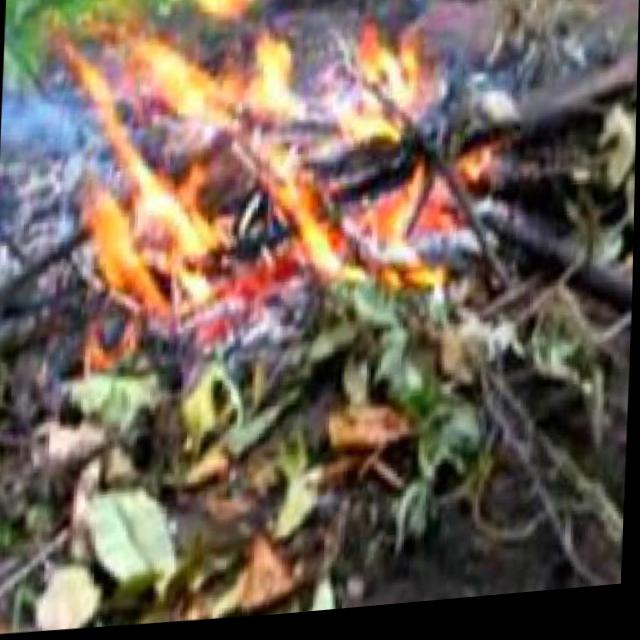Fire: (41, 33, 305, 317), (307, 168, 447, 304), (330, 28, 412, 188)
